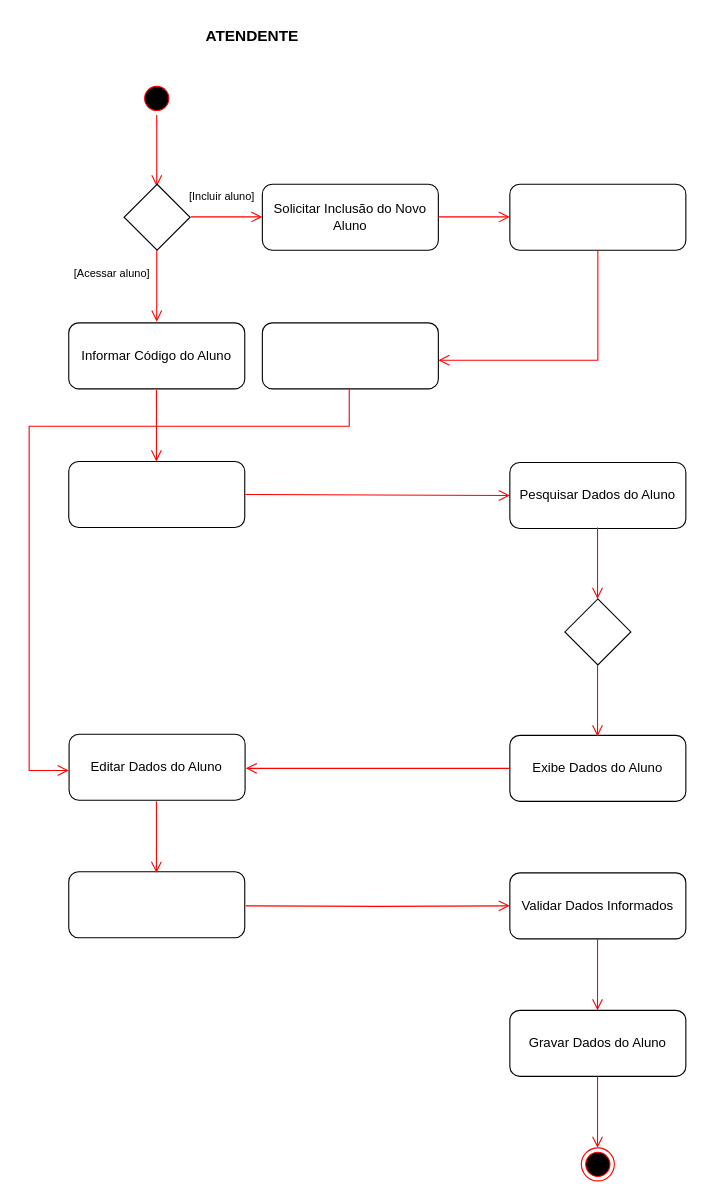
Some shapes in this 705 by 1200 pixel diagram are drawn without their labels. Each missing label, with the centre of its shape:
"Informa Dados do Aluno" belongs at (349,355).
"Solicitar Busca" belongs at (156,493).
"Solicitar Dados do Novo Aluno" belongs at (597,216).
"Solicitar Gravação dos Dados" belongs at (156,904).
